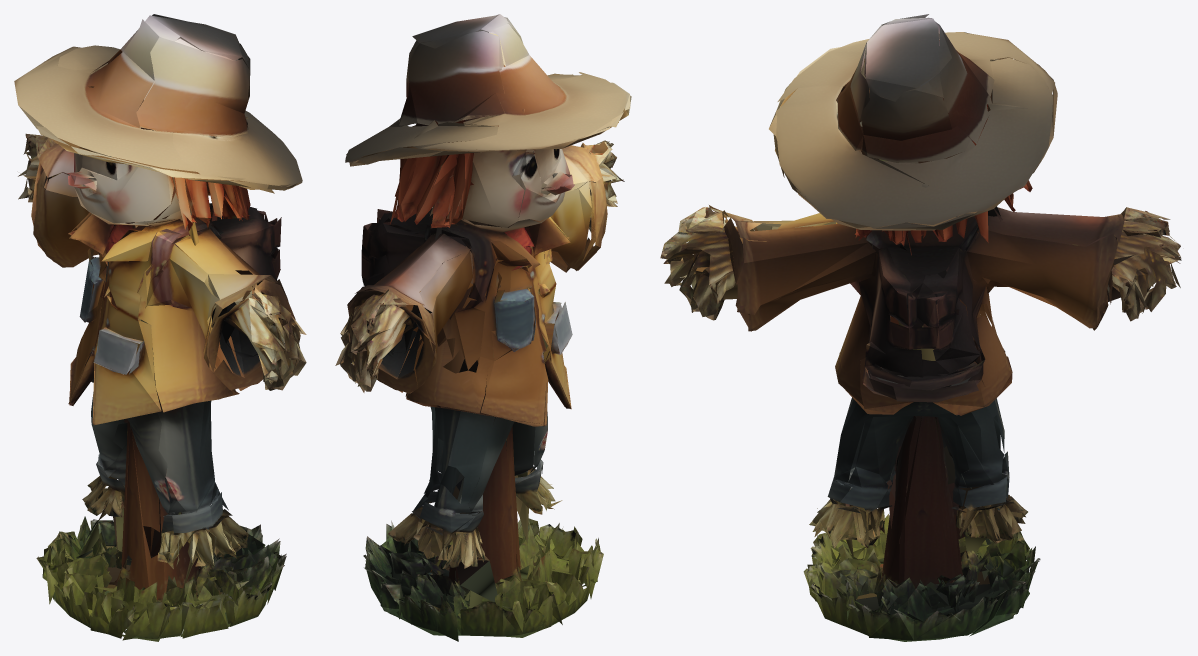
The model's file is scarecrow.fbx.
3 views of the same model, side by side, from view 1: azimuth 30°, elevation 25°; view 2: azimuth 150°, elevation 25°; view 3: azimuth 270°, elevation 25° (orthographic).
Parts seen in each view (by area): view 1: scarecrow; view 2: scarecrow; view 3: scarecrow.
Boxes of the visible parts, x1,y1,x2,y2 form: scarecrow: (14, 14, 306, 641); scarecrow: (335, 14, 631, 641); scarecrow: (660, 14, 1181, 641).
Bounding box in the file's own units: 1 × 2.21 × 1.82.
1 material, 1 textured.
